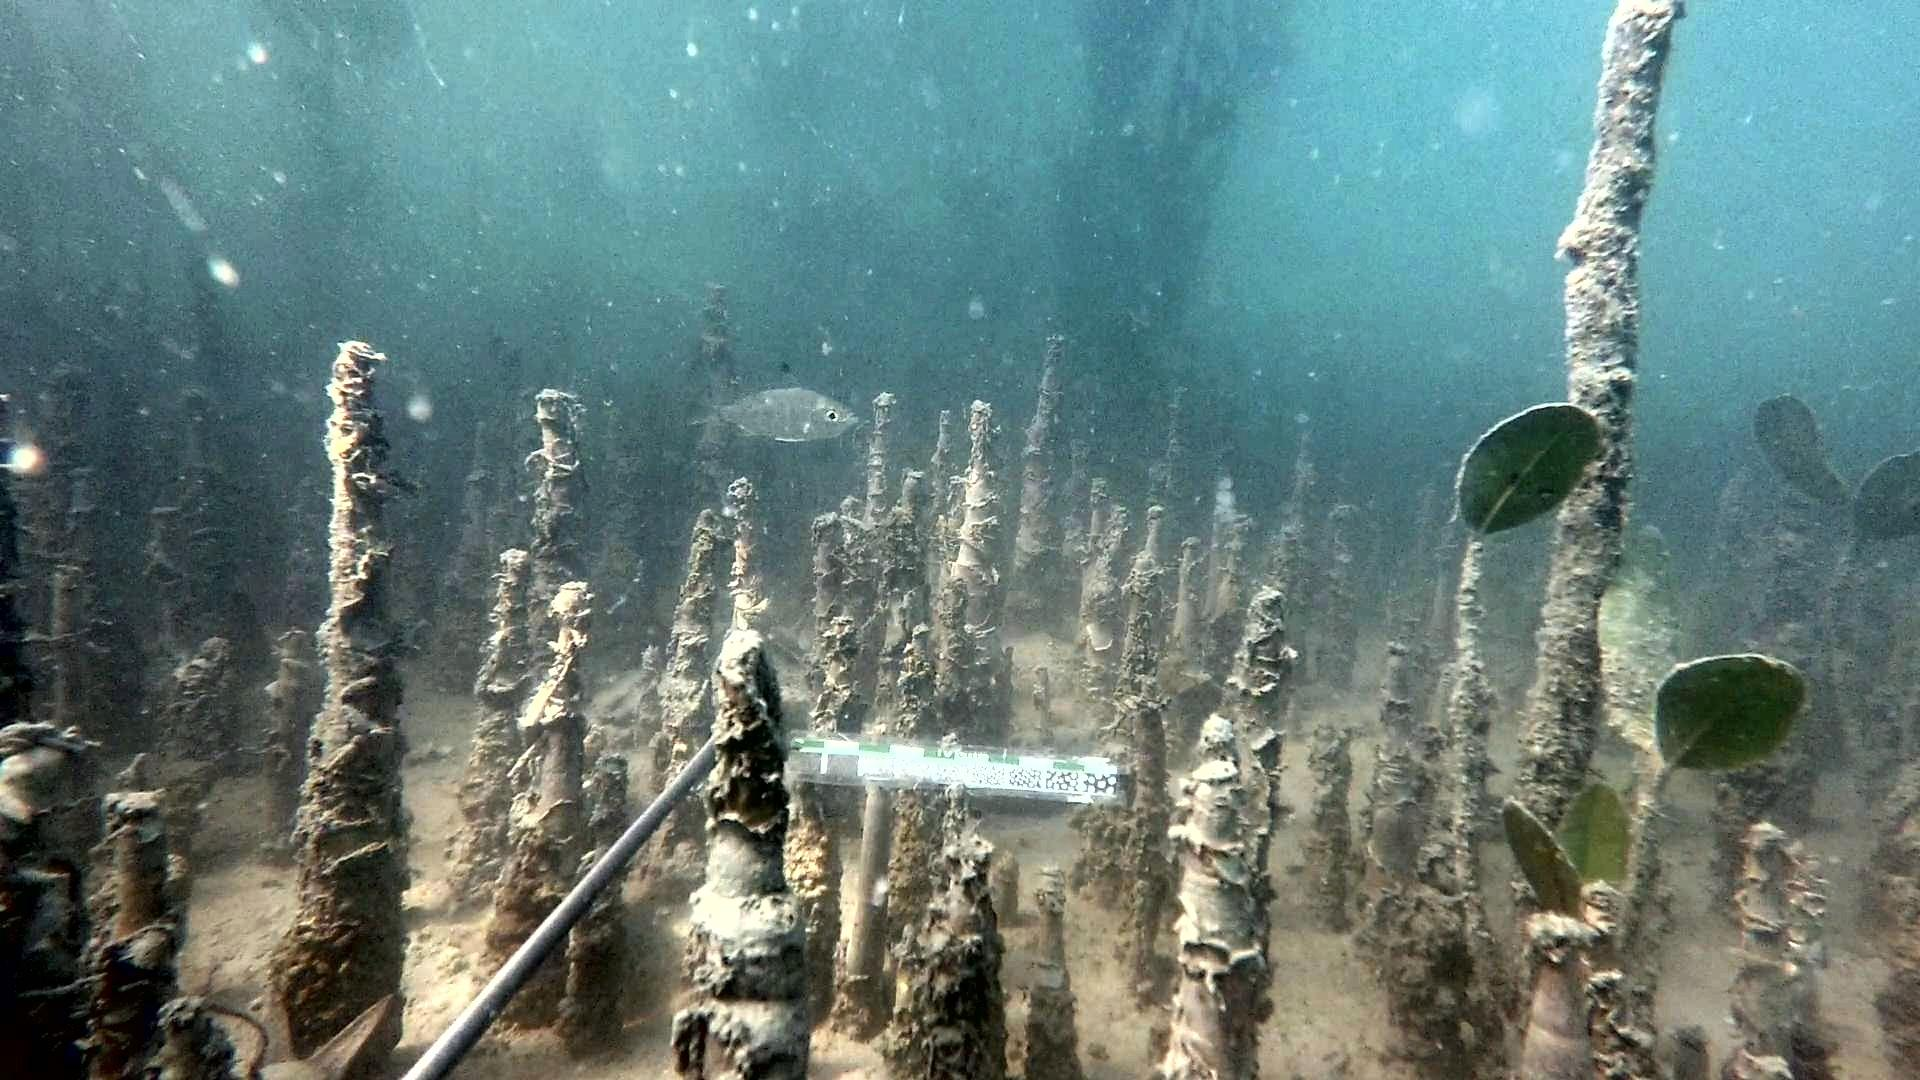gerres: (679, 363, 861, 444)
